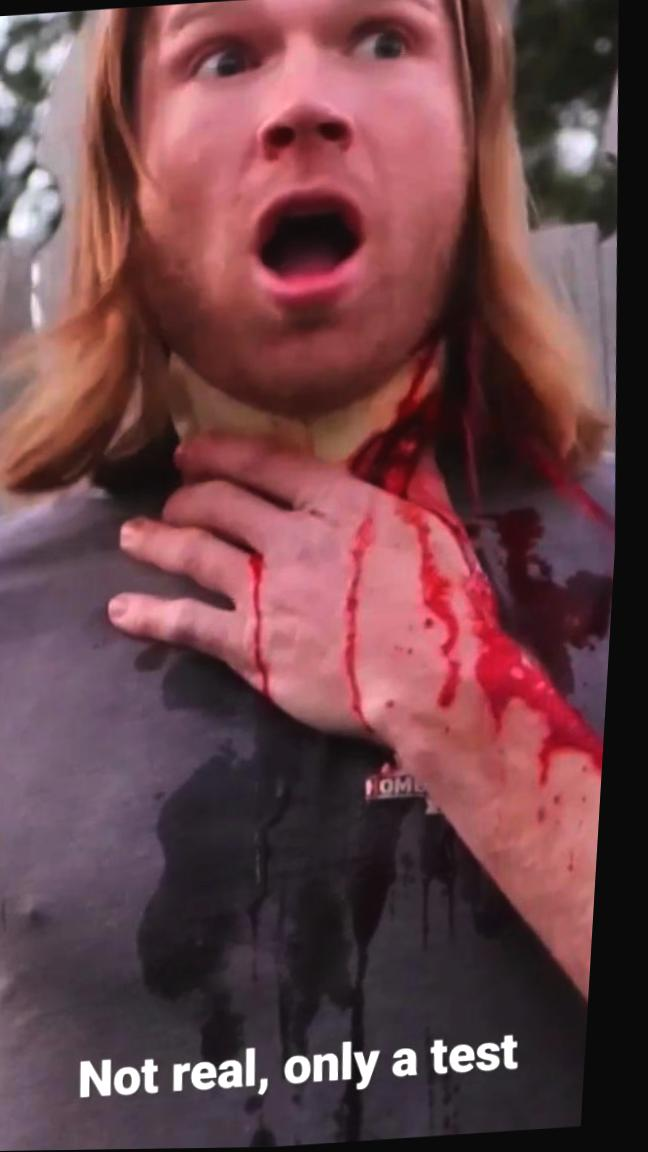Fire: (418, 510, 613, 792), (473, 510, 621, 698), (355, 345, 445, 496), (352, 511, 383, 740), (253, 552, 286, 707), (565, 487, 621, 538), (231, 658, 249, 675)
